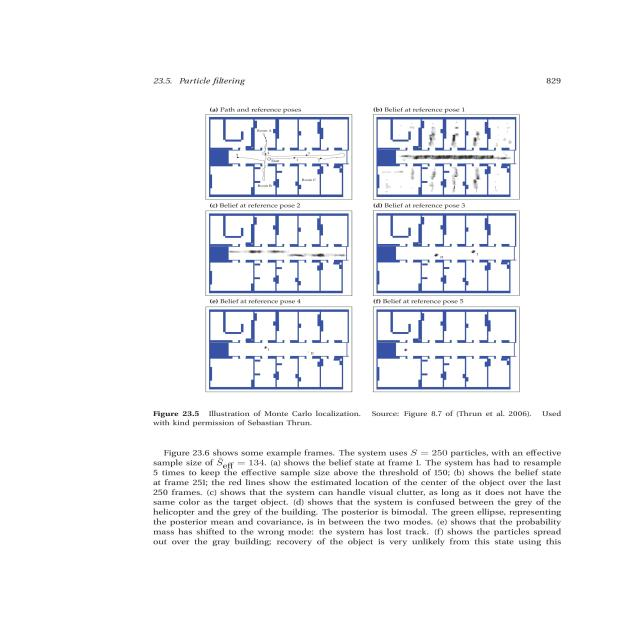diagram: (122, 101, 622, 443)
